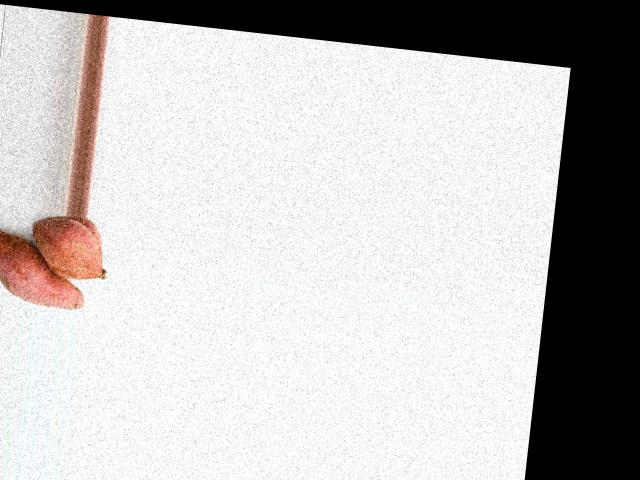sweet_potato: (33, 220, 112, 277)
